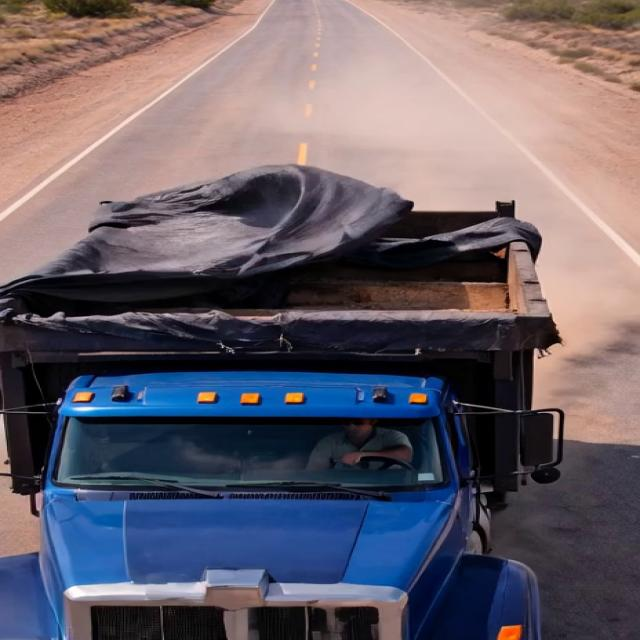trailer: (23, 185, 543, 321)
truck: (13, 130, 562, 634)
